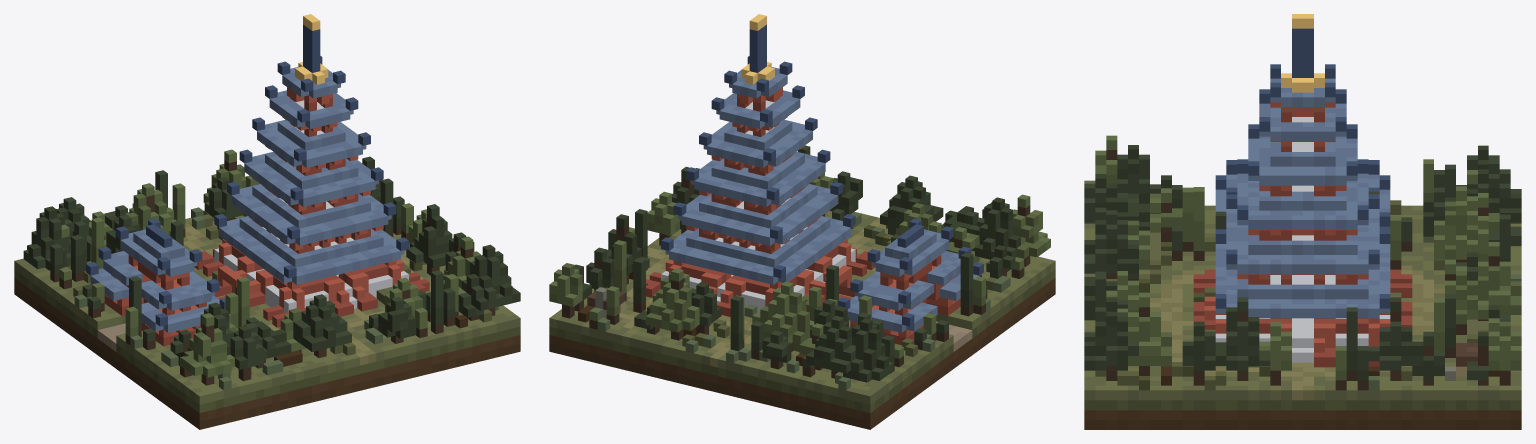
The model's file is wfffffffr.983876ec97.glb.
The picture shows the model from 3 angles, left to right: view 1: azimuth 30°, elevation 25°; view 2: azimuth 150°, elevation 25°; view 3: azimuth 270°, elevation 25°; orthographic projection. The views are drawn at different scales.
Parts seen in each view (by area): view 1: wfffffffr-0; view 2: wfffffffr-0; view 3: wfffffffr-0.
Boxes of the visible parts, x1=… form: wfffffffr-0: x1=14, y1=14, x2=520, y2=429; wfffffffr-0: x1=549, y1=14, x2=1055, y2=429; wfffffffr-0: x1=1084, y1=14, x2=1521, y2=429.
Bounding box in the file's own units: 4 × 3.5 × 4.
Materials: 1 (1 with a texture image).
